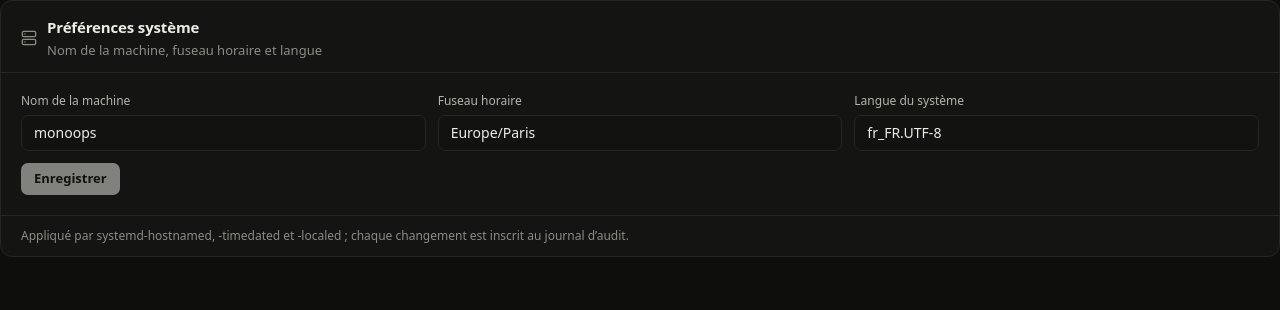
Test: SystemPreferencesCard › refuses an invalid host name before sending it
The image size is (1280, 310).
Replace the text in the field labelled "Nom de la machine" with "-nas" at x=223, y=133, box x1=21 y1=115 x2=426 y2=151
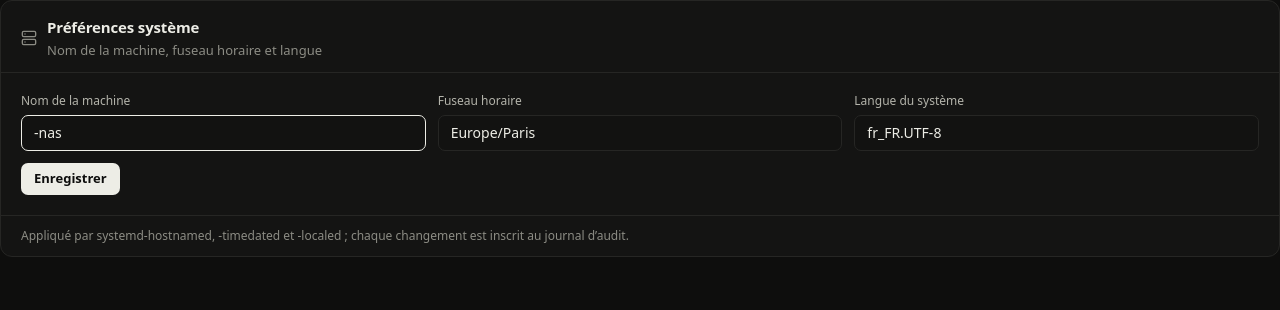
Click the button "Enregistrer".
click(70, 179)  # box x1=21 y1=163 x2=120 y2=195
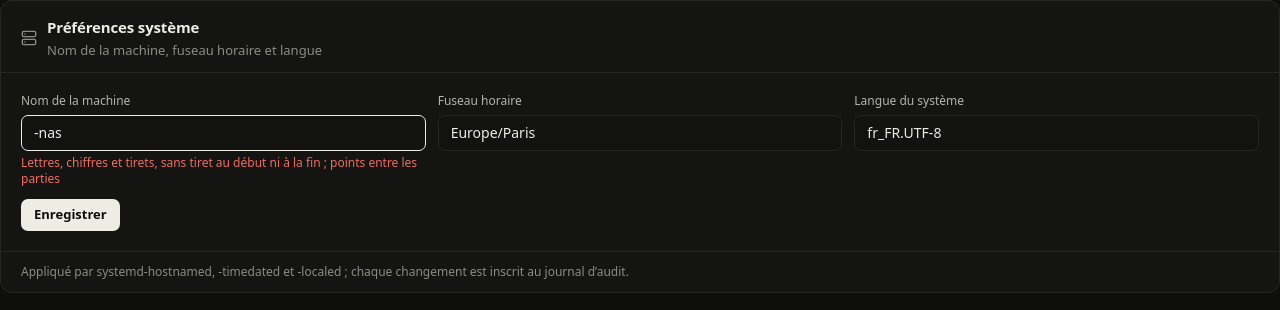
Result: the text "sans tiret au début" is shown at x1=21 y1=154 x2=417 y2=187
